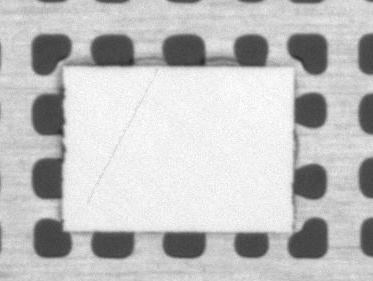DIE_CRACK: (115, 53, 208, 153)
